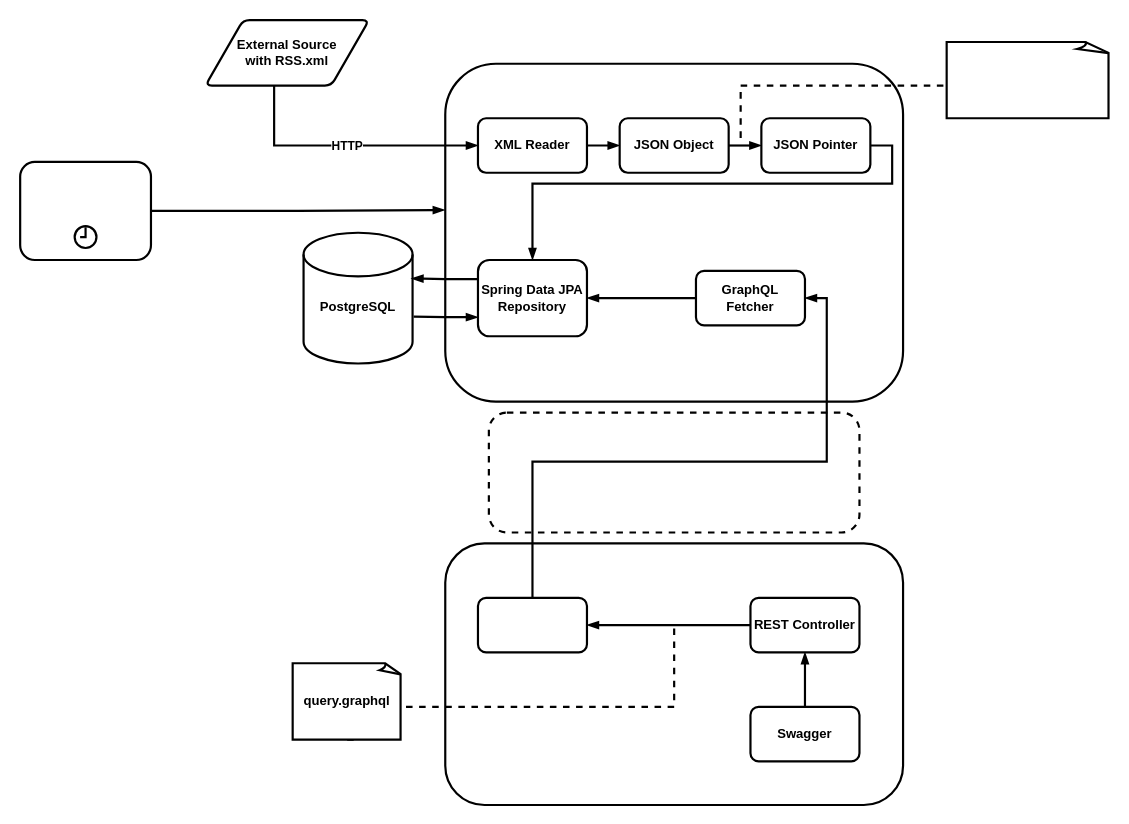
The diagram is 1129 pixels wide and 824 high, and some of its shapes have lost their labels. Each missing label, with the box of its shape:
Cron Job Trigger: (19, 160, 152, 261)
GraphQL Context: (487, 411, 860, 533)
GraphQL Resolver: (476, 596, 588, 653)
Item Keeper Admin: (444, 542, 904, 806)
mapping_config.json: (945, 40, 1111, 119)
